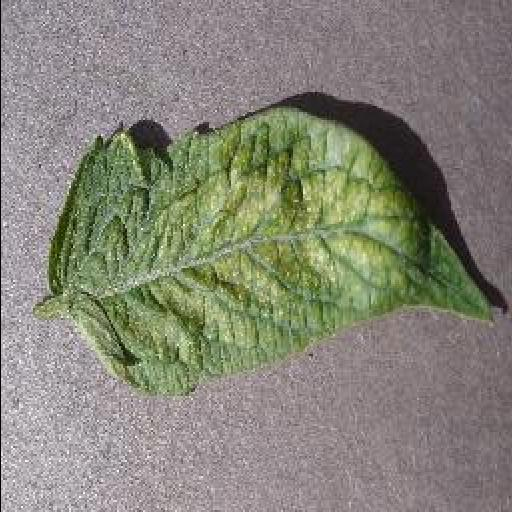disease_tomato: (48, 110, 502, 400)
